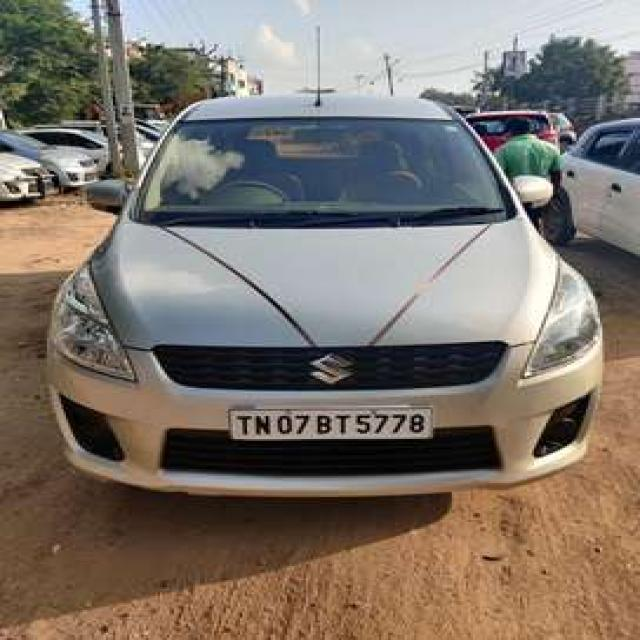Plate: (229, 409, 429, 439)
